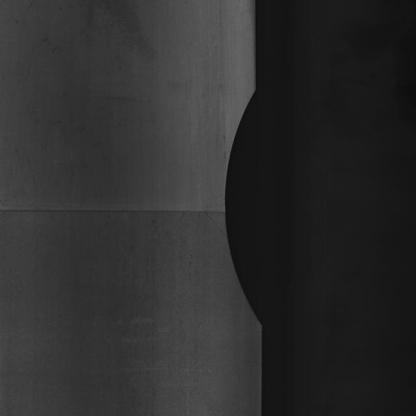crescent_gap: (218, 74, 281, 336)
welding_line: (0, 188, 242, 231)
